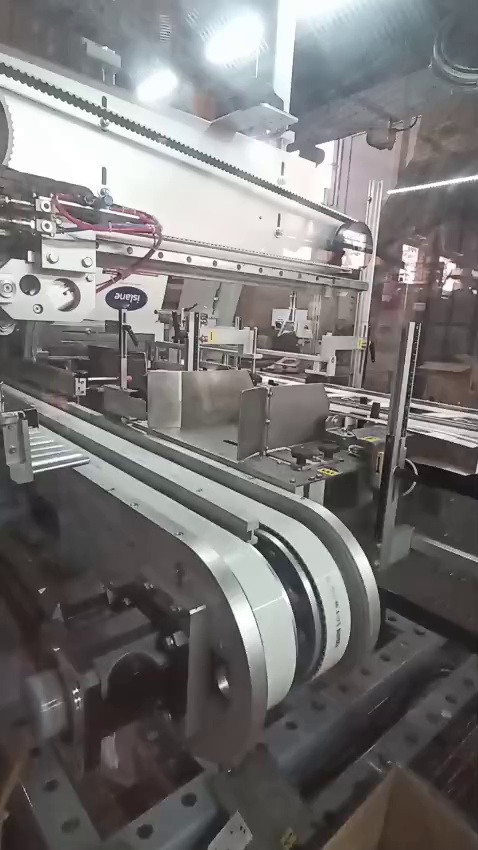savon: (326, 772, 478, 850), (0, 753, 32, 832), (278, 832, 304, 850), (434, 370, 448, 400), (420, 452, 448, 460), (319, 468, 337, 480)
